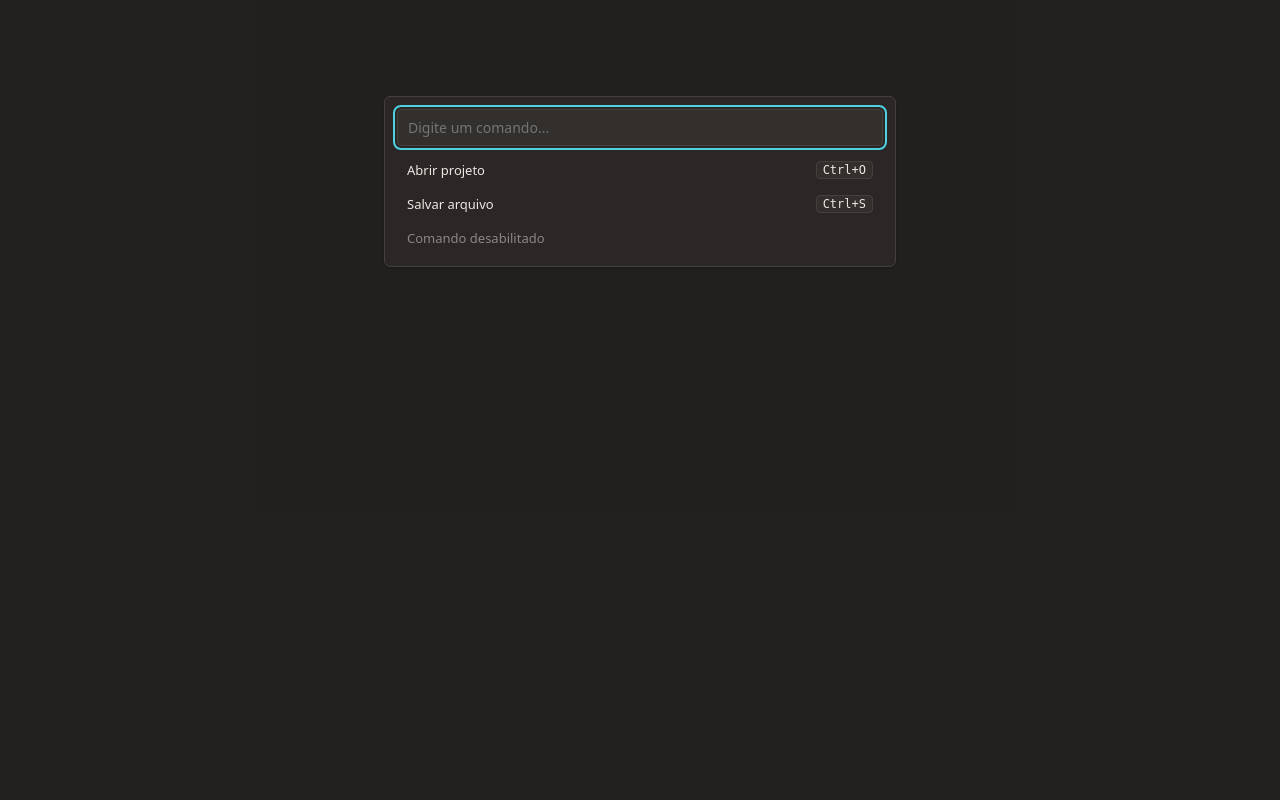
Scenario: CommandPalette › filters the list as the user types
Type "salvar" into the field with placeholder "Digite um comando..." at {"x": 640, "y": 128}, box [397,109,883,146]
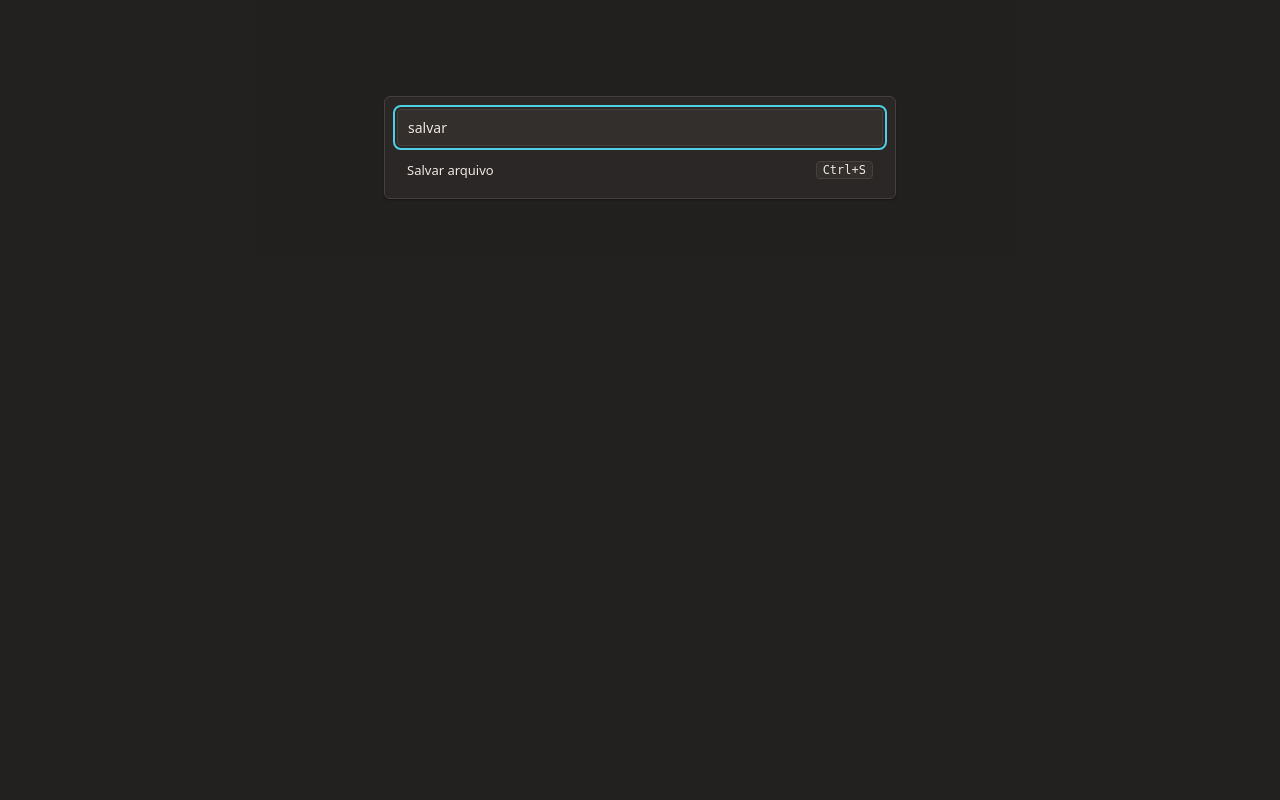
Check: the button "Salvar arquivo Ctrl+S" is shown, box [397,154,883,186]
Check: the button "Abrir projeto" is gone
Check: the button "Comando desabilitado" is gone
